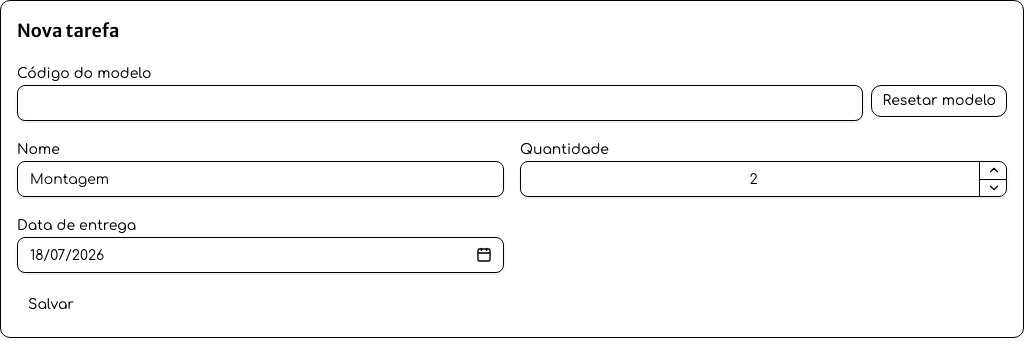
Test case: TaskForm › loads template name into the name field on success
The image size is (1024, 355).
In the field labelled "Código do modelo": (440, 103) [17,85,864,121], type "123"
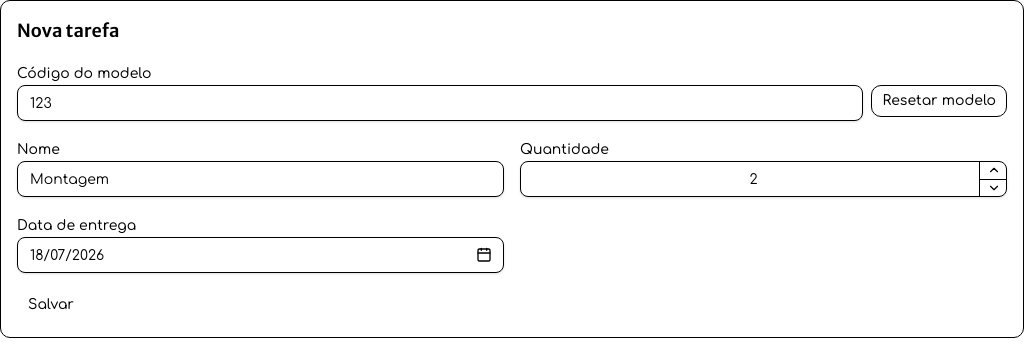
Click the button "Resetar modelo": (939, 101) [872,85,1007,117]
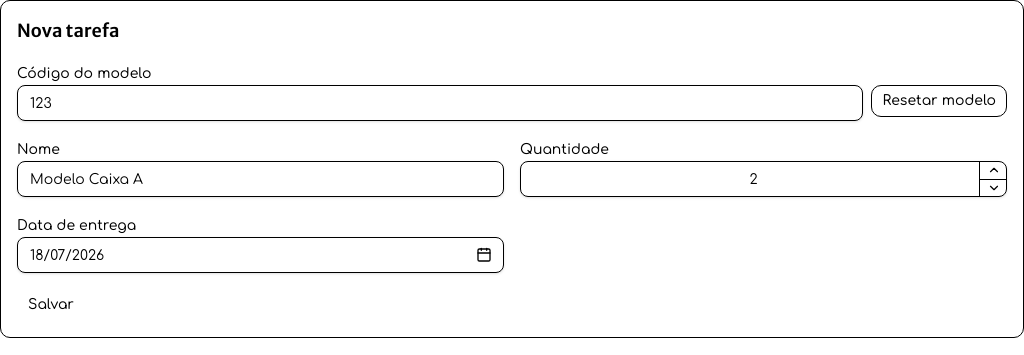
Expected: the field labelled "Nome" holds "Modelo Caixa A", [17,161,504,197]
